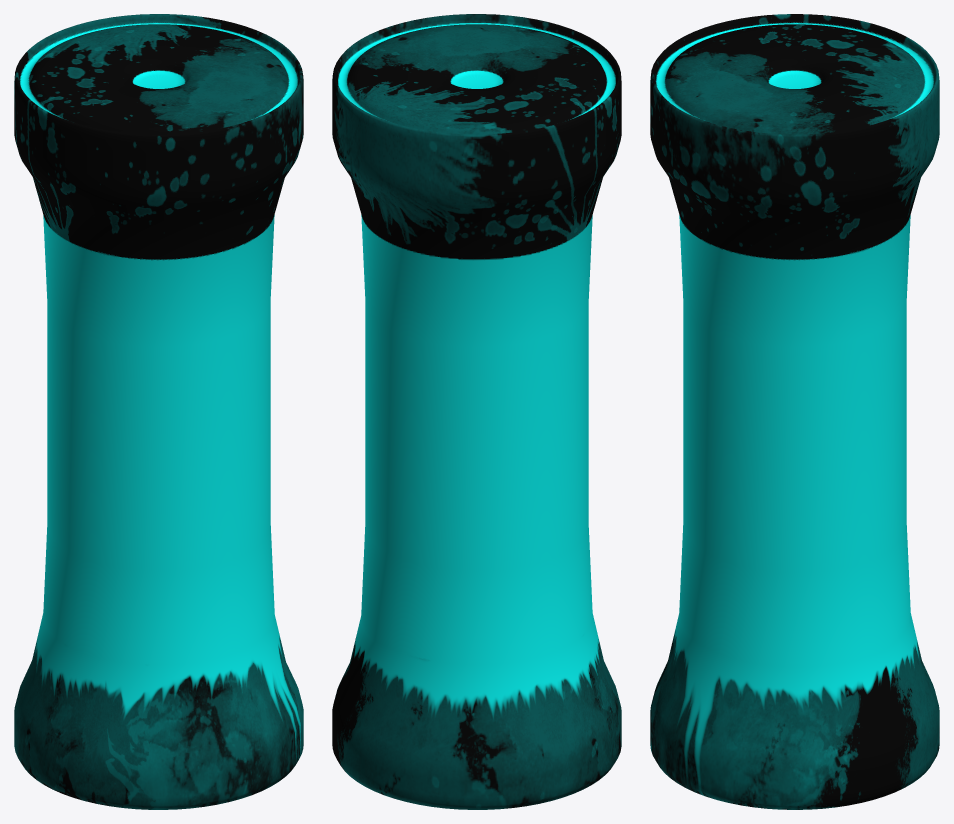
File: BomBang.fbx
3 views of the same model, side by side, from view 1: azimuth 30°, elevation 25°; view 2: azimuth 150°, elevation 25°; view 3: azimuth 270°, elevation 25° (orthographic).
Parts seen in each view (by area): view 1: Cylinder001; view 2: Cylinder001; view 3: Cylinder001.
Part boxes in pixels (x1=…): Cylinder001: x1=14, y1=14, x2=303, y2=809; Cylinder001: x1=332, y1=14, x2=621, y2=809; Cylinder001: x1=650, y1=14, x2=939, y2=809.
Size of the model in its own units: 1791 by 4631 by 1791.
1 material, 1 textured.
